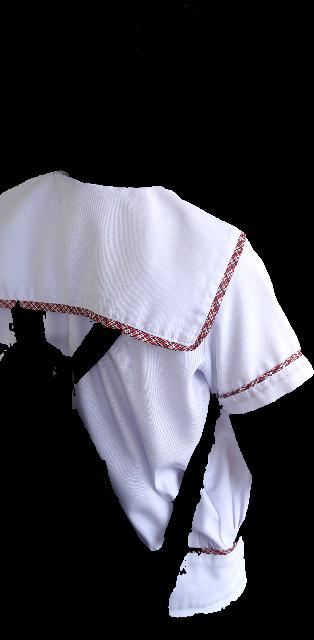pologirl: (0, 171, 313, 617)
